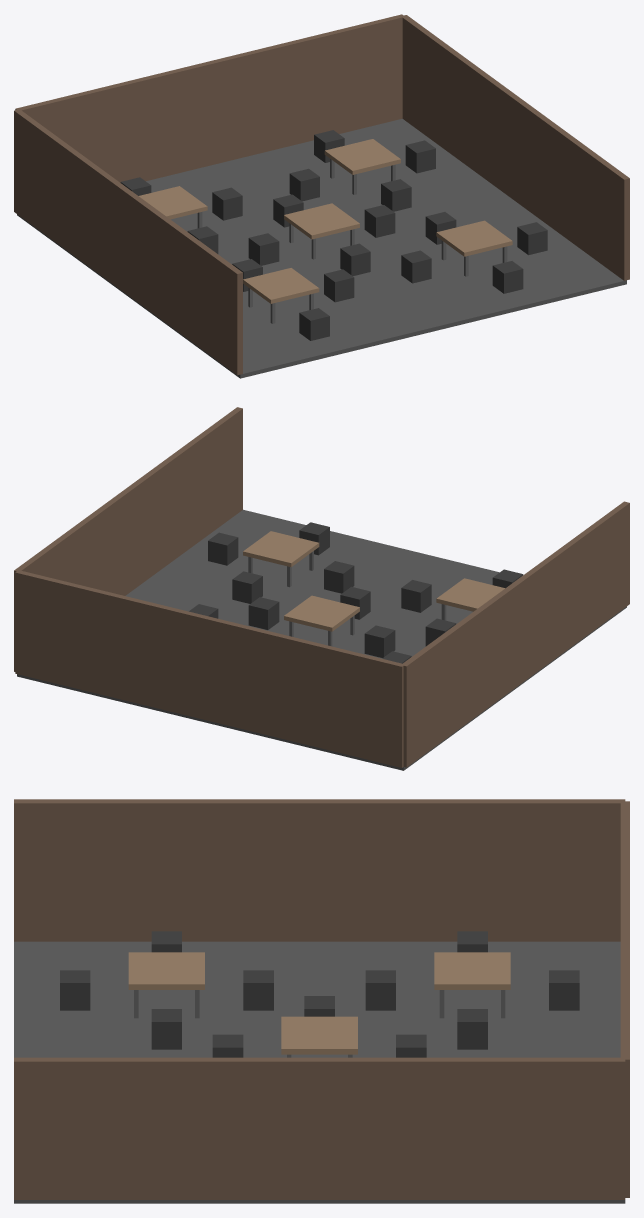
Rendered from Food_and_Beverage_Service_AR_Training_Restaurant.glb.
3 views of the same model, one above another, from view 1: azimuth 30°, elevation 25°; view 2: azimuth 150°, elevation 25°; view 3: azimuth 270°, elevation 25° (orthographic). The views are drawn at different scales.
Parts seen in each view (by area): view 1: world; view 2: world; view 3: world.
Boxes of the visible parts, left/top/right/bottom form: world: left=14, top=14, right=629, bottom=378; world: left=14, top=407, right=629, bottom=770; world: left=14, top=799, right=629, bottom=1203.
Size of the model in its own units: 20.3 by 5.2 by 20.15.
